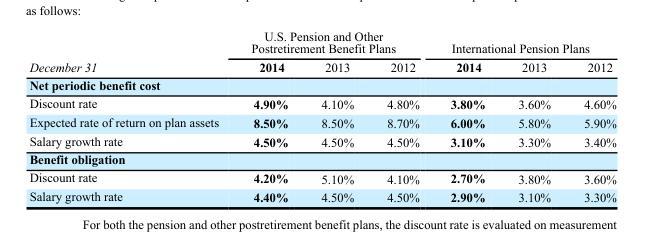table: (28, 28, 615, 204)
table column: (28, 28, 234, 204), (234, 28, 304, 204), (434, 28, 501, 204), (304, 28, 369, 204), (369, 28, 434, 204), (501, 28, 566, 204), (566, 28, 615, 204)
table column header: (28, 28, 615, 75)
table projected row header: (28, 75, 615, 93), (28, 150, 615, 168)
table row: (28, 28, 615, 57), (28, 93, 615, 112), (28, 112, 615, 131), (28, 131, 615, 150), (28, 168, 615, 187), (28, 57, 615, 75), (28, 75, 615, 93), (28, 150, 615, 168), (28, 187, 615, 204)
table spanning cell: (28, 28, 234, 75), (234, 28, 434, 57), (434, 28, 615, 57)
